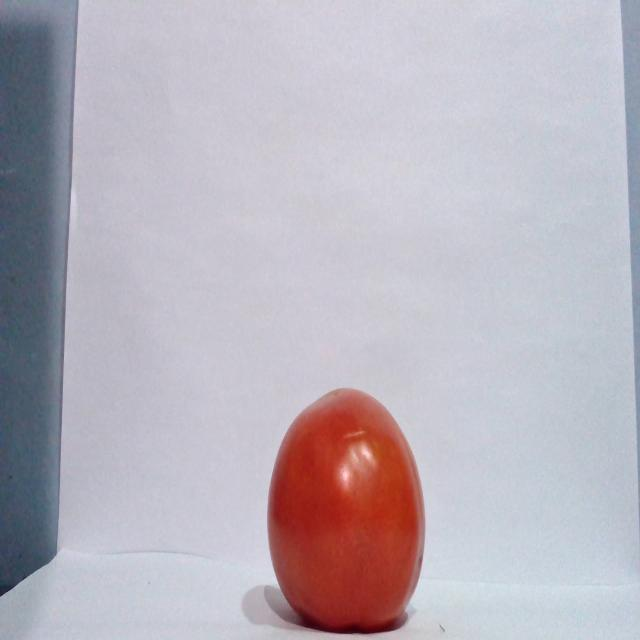Red: (265, 386, 426, 632)
